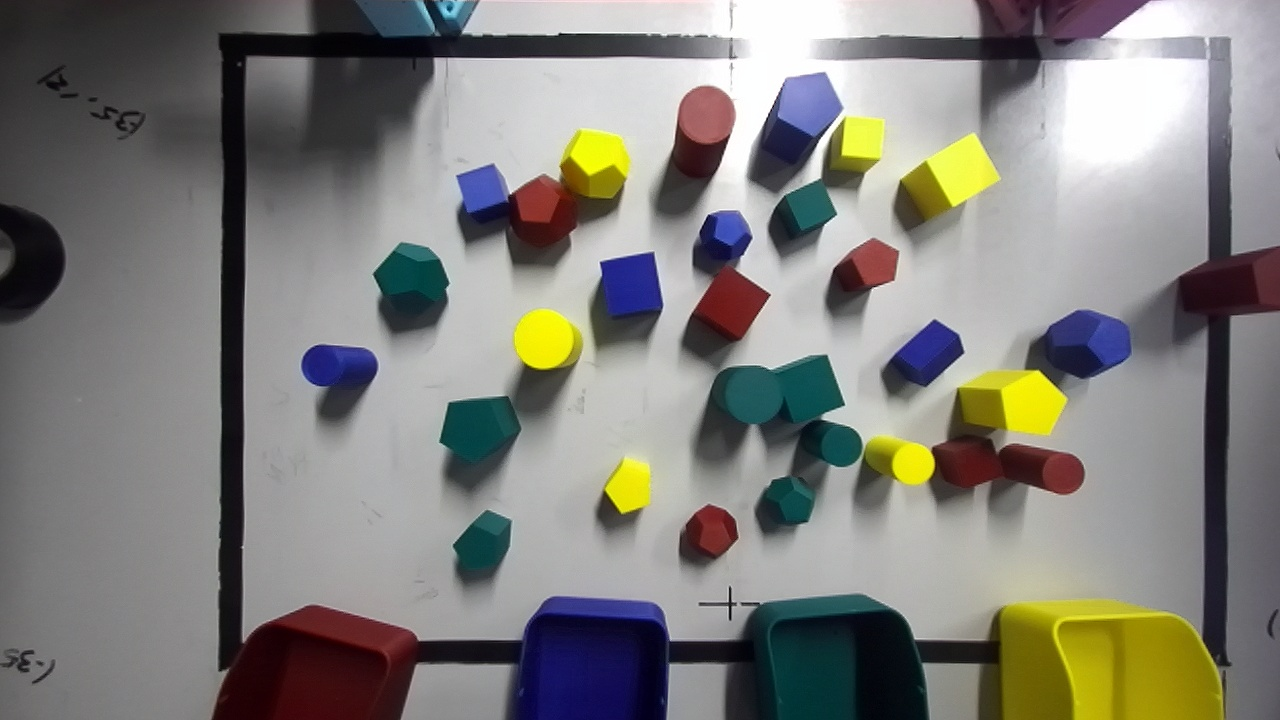bin: (1000, 601, 1223, 719), (212, 605, 418, 719), (751, 594, 928, 719), (514, 597, 668, 719)
cube: (901, 133, 999, 219), (691, 265, 769, 340), (773, 355, 844, 422), (600, 252, 662, 316), (772, 180, 836, 237), (931, 435, 1001, 487), (828, 116, 884, 171), (456, 163, 508, 222)
cylinder: (672, 86, 735, 177), (999, 443, 1084, 494), (710, 365, 782, 423), (513, 309, 582, 369), (864, 435, 934, 484), (301, 344, 377, 387), (800, 420, 862, 466)
dodecahedron: (1043, 310, 1130, 378), (373, 242, 449, 313), (560, 129, 629, 198), (510, 175, 576, 246), (685, 504, 737, 557), (698, 210, 752, 261), (761, 476, 815, 524)
hexagonal: (761, 72, 842, 164), (957, 370, 1066, 434), (1178, 247, 1279, 316), (439, 396, 520, 461), (889, 320, 963, 385), (831, 238, 898, 291), (453, 510, 511, 571), (604, 457, 650, 513)
